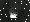person: (11, 9, 19, 18)
